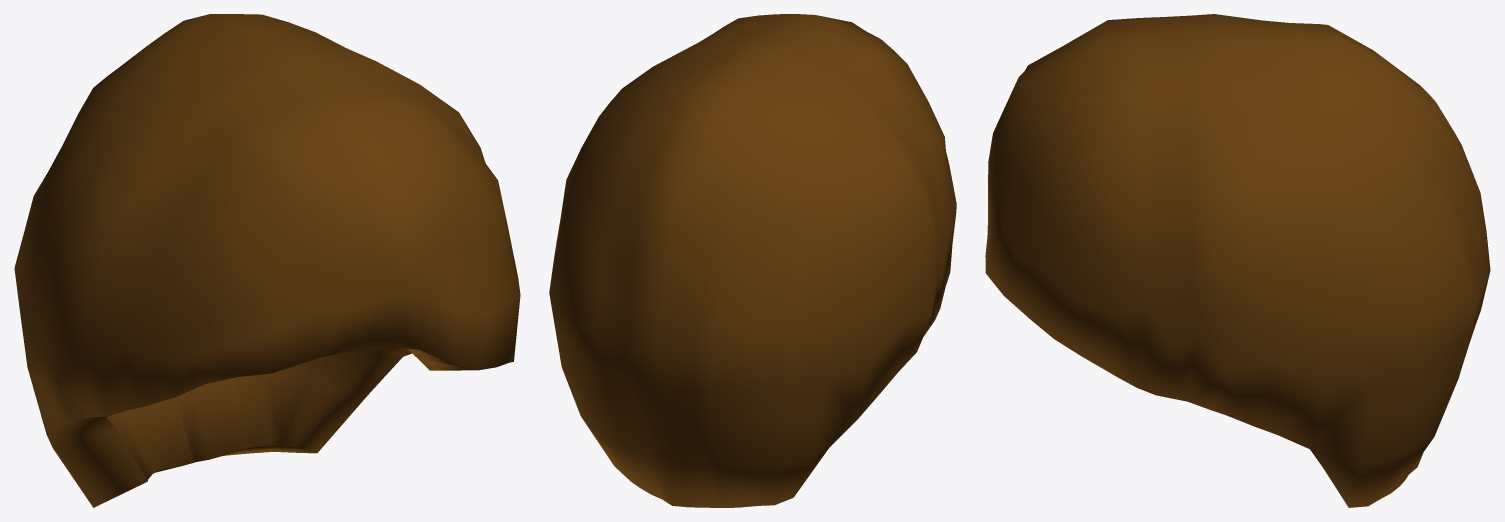
Rendered from Hair2.fbx.
3 renders of one model, left to right at view 1: azimuth 30°, elevation 25°; view 2: azimuth 150°, elevation 25°; view 3: azimuth 270°, elevation 25°, orthographic. The views are drawn at different scales.
Visible parts, largest first — view 1: Hair02.001; view 2: Hair02.001; view 3: Hair02.001.
Boxes of the visible parts, <box> form: Hair02.001: <box>14,14,520,507</box>; Hair02.001: <box>549,14,956,507</box>; Hair02.001: <box>985,14,1490,507</box>.
Bounding box in the file's own units: 20.28 × 22.17 × 23.13.
